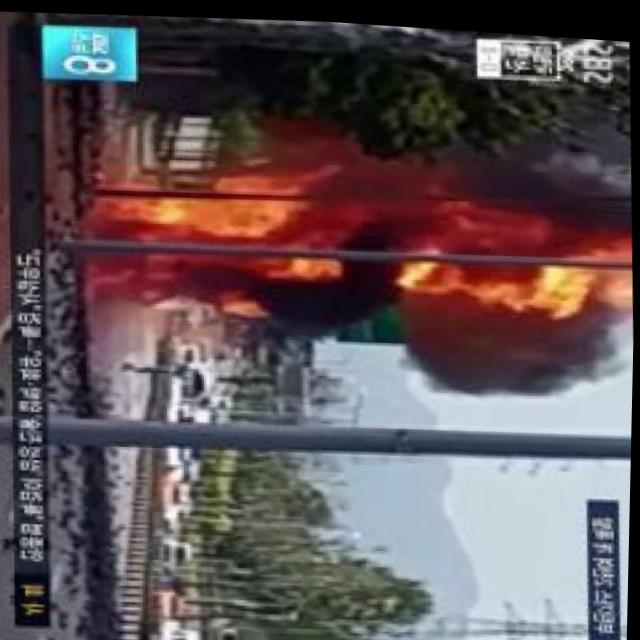Fire: (92, 149, 362, 284), (409, 189, 631, 317)
